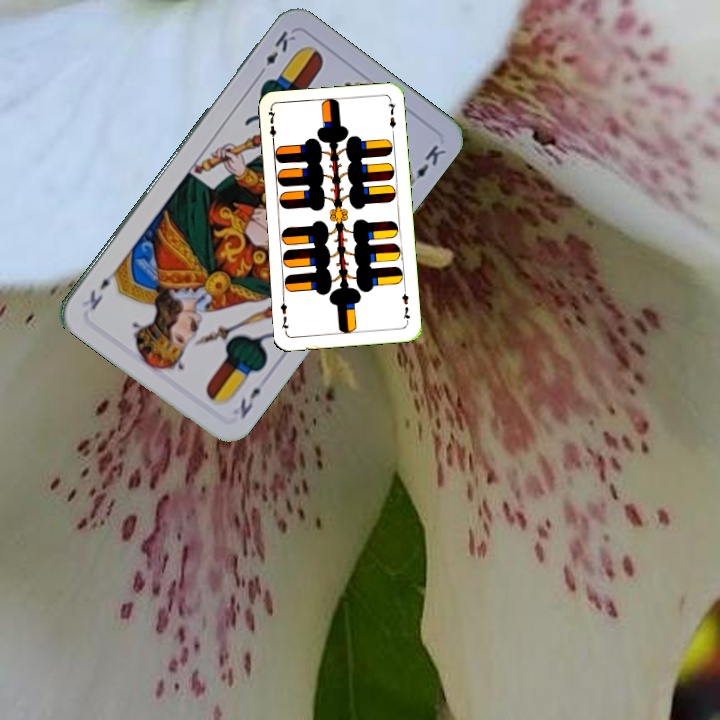E7: (398, 285, 413, 326), (264, 106, 279, 147)
EK: (253, 26, 298, 80), (235, 383, 264, 421)
